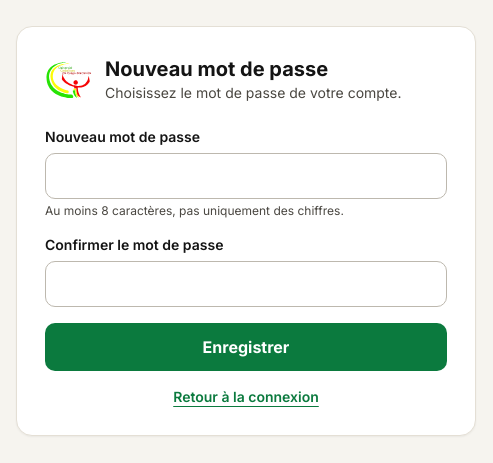
Test: Nouveau mot de passe › confirmation différente : erreur, aucun appel
Type "Nouveau-UCCB-2027!" into the password field labelled "Nouveau mot de passe" at (246, 176), box [45,153,447,199]
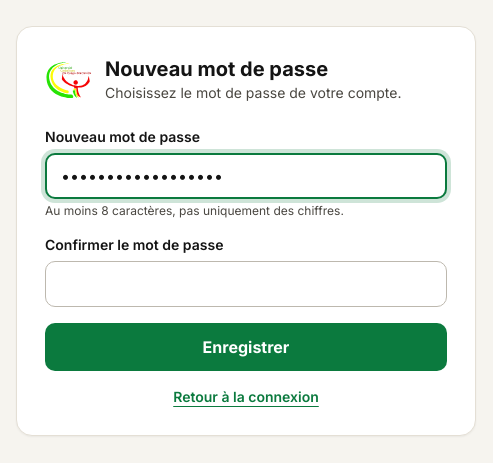
Type "autre-chose-2027" into the password field labelled "Confirmer le mot de passe" at (246, 284), box [45,261,447,307]
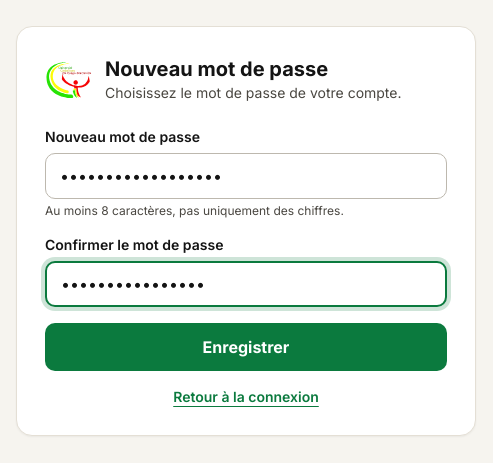
Click the button "Enregistrer" at (246, 347), box [45,323,447,371]
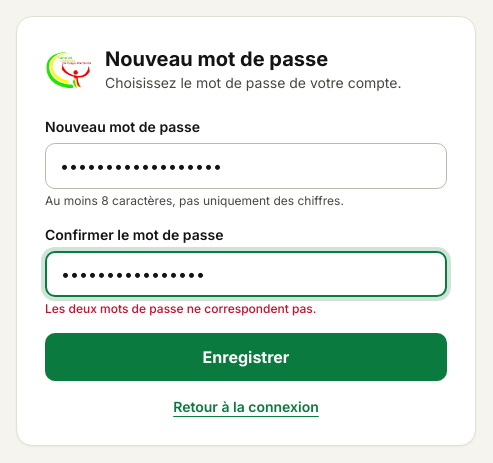
Now the text "Les deux mots de passe ne correspondent pas." is shown, box [45,301,316,316]
